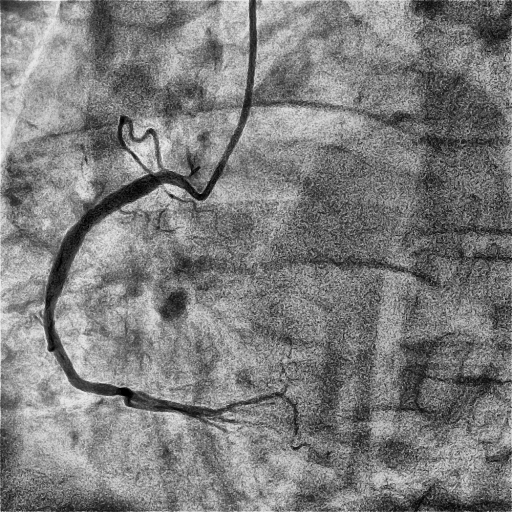rca: (45, 170, 185, 396)
